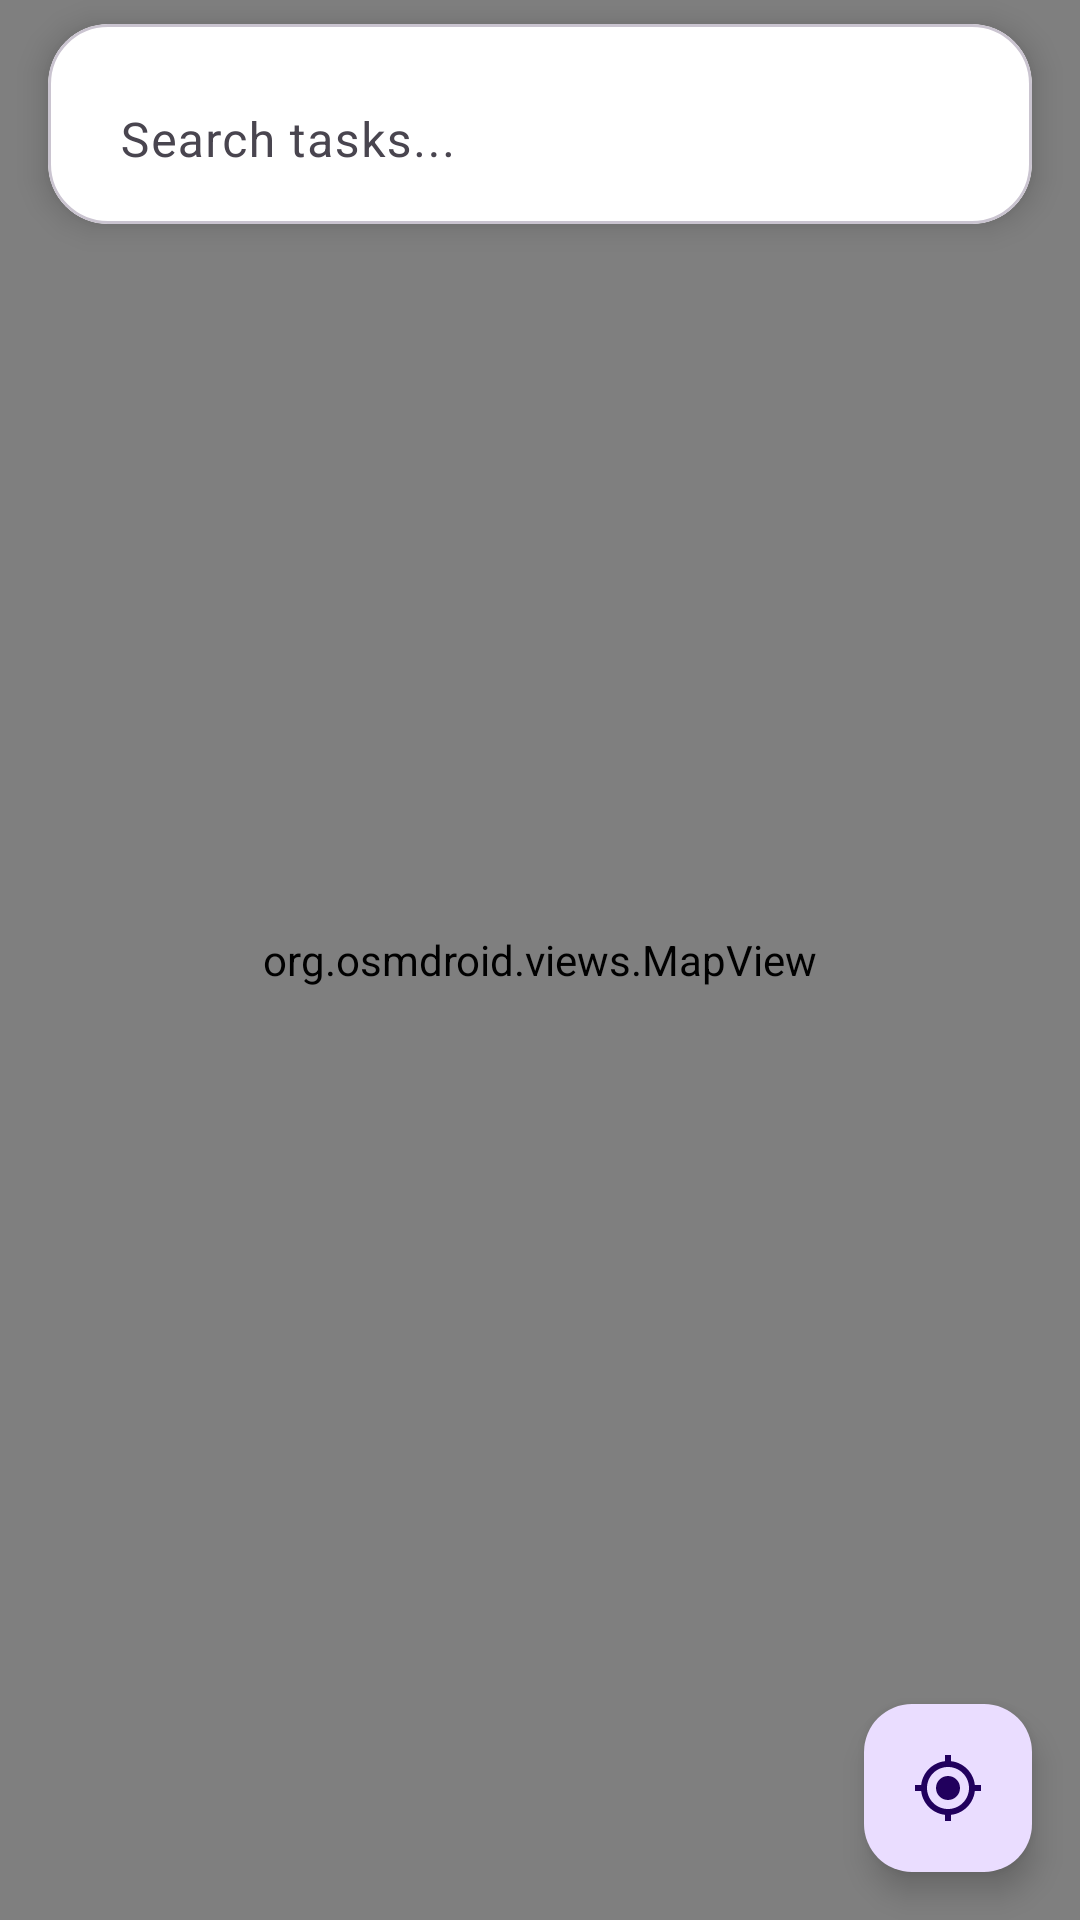

Point at icon controls on the screen. Image size 1080px x 1920px, points as [x,y].
Current Location: [948,1788]
